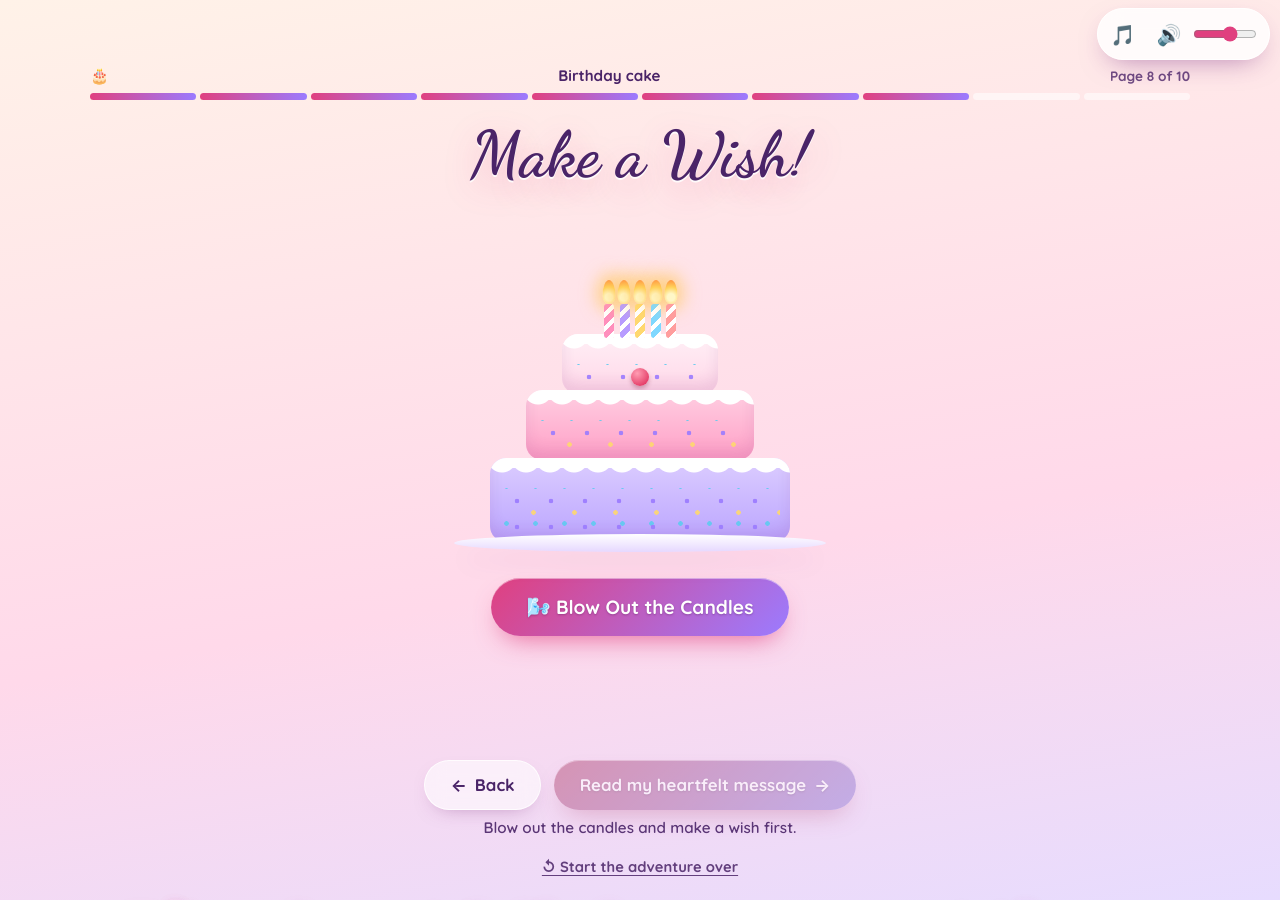
Test: page 10 cake › blows out candles to reveal the wish and can replay the celebration
Expected: the button "Read my heartfelt message →" is disabled, top-left (554, 760), bottom-right (856, 810)
Expected: the picture named "5 lit candles" is shown, top-left (490, 232), bottom-right (790, 552)
Click the button "🌬️ Blow Out the Candles": (640, 607) top-left (491, 578), bottom-right (789, 636)
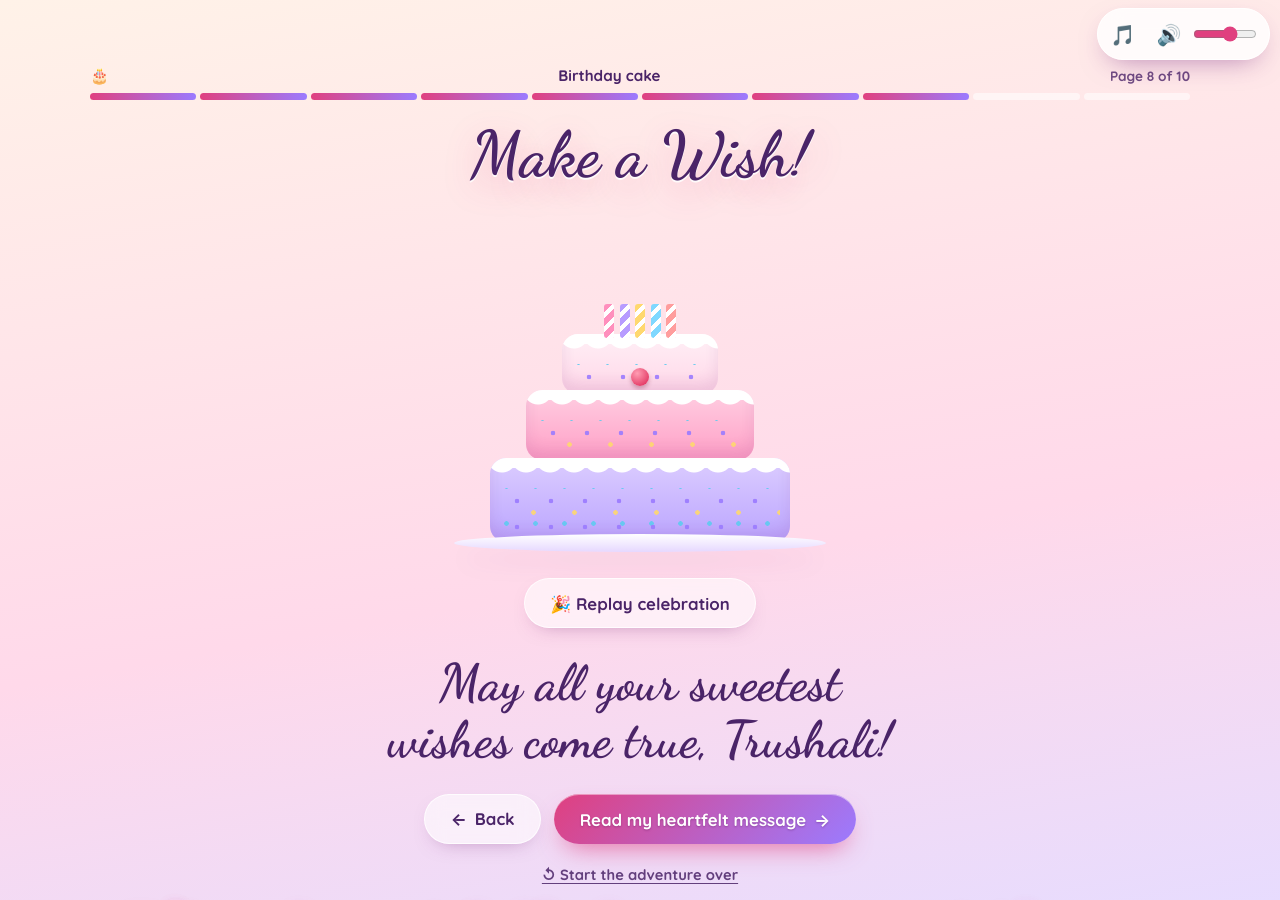
Result: the text "May all your sweetest wishes come true, Trushali!" is shown at top-left (388, 652), bottom-right (893, 770)
Result: the picture named "candles blown out" is shown at top-left (490, 232), bottom-right (790, 552)
Result: the button "Read my heartfelt message →" is enabled at top-left (554, 794), bottom-right (856, 844)
Click the button "🎉 Replay celebration": (640, 603) top-left (524, 578), bottom-right (756, 628)
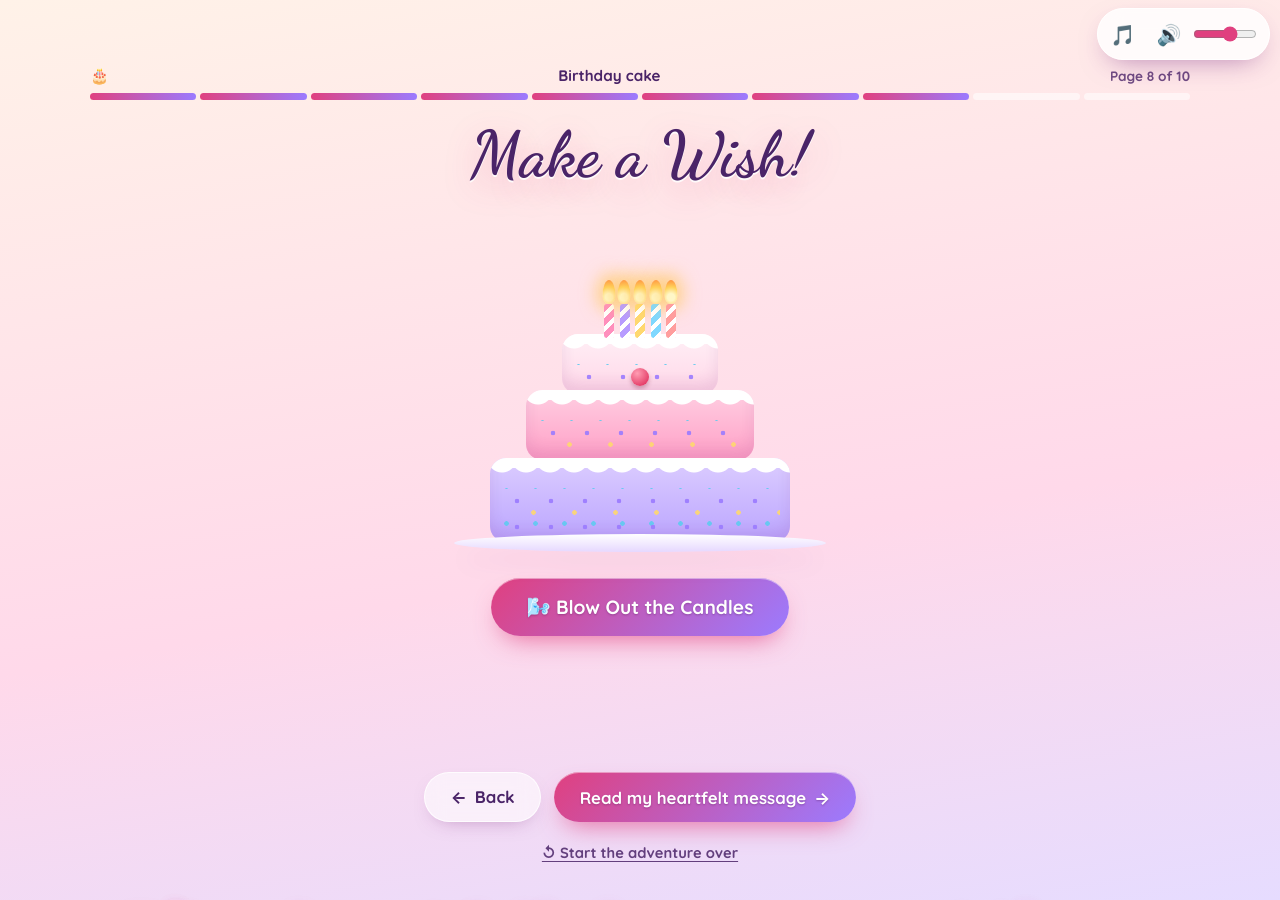
Result: the picture named "lit candles" is shown at top-left (490, 232), bottom-right (790, 552)
Result: the button "🌬️ Blow Out the Candles" is shown at top-left (491, 578), bottom-right (789, 636)
